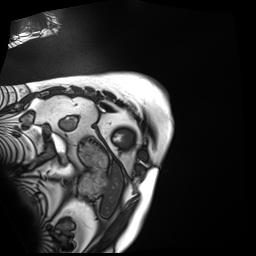ventricle: (113, 134, 123, 143)
